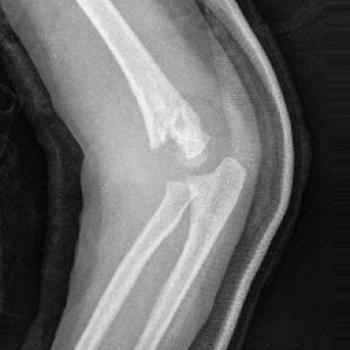Fracture: (140, 132, 210, 193)
